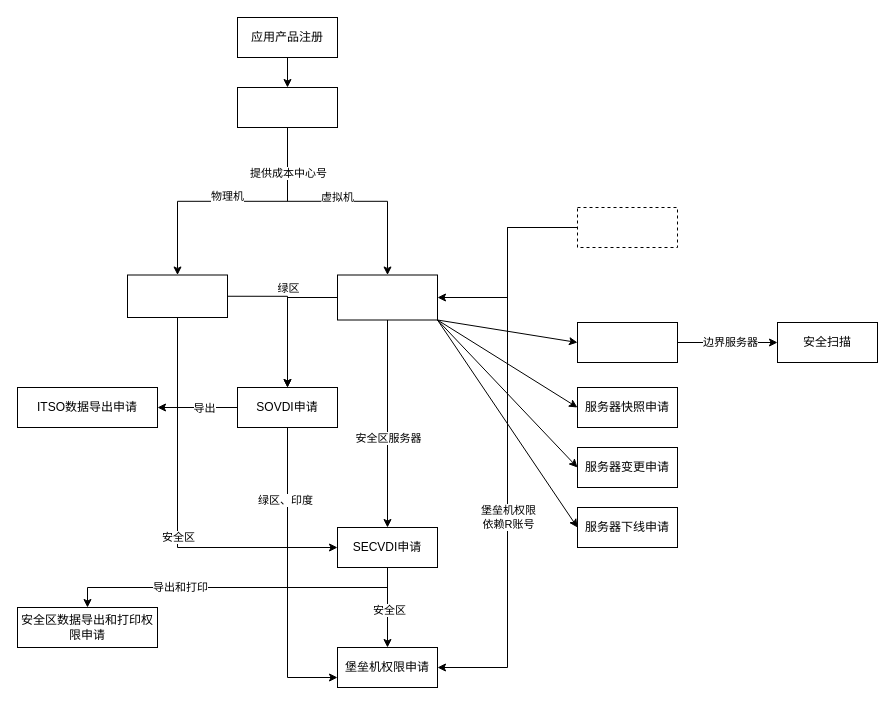
This 895x705 diagram has some shape labels left out. Here are the shapes that lost their labels. From the top down, the centre of each, then its label:
At pixel 287 107: "应用实例注册".
At pixel 627 227: "R账号申请".
At pixel 177 296: "计算机设备上架交付申请".
At pixel 387 297: "虚拟机申请流程".
At pixel 627 342: "防火墙策略申请".
